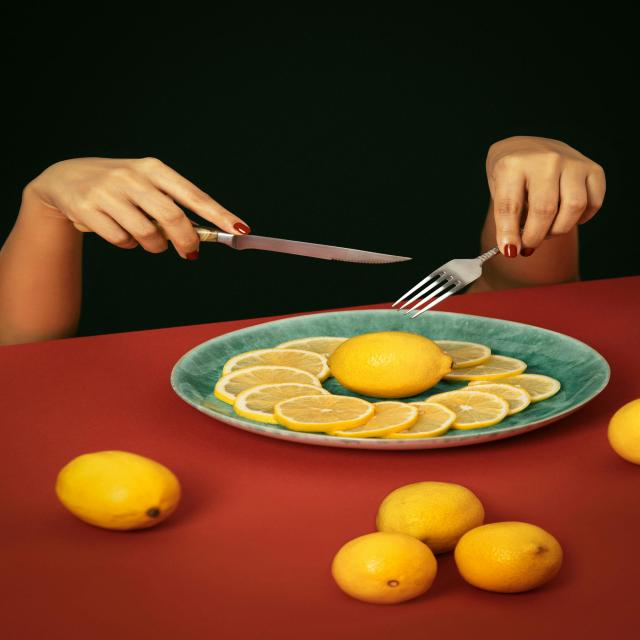knife: (194, 227, 411, 263)
